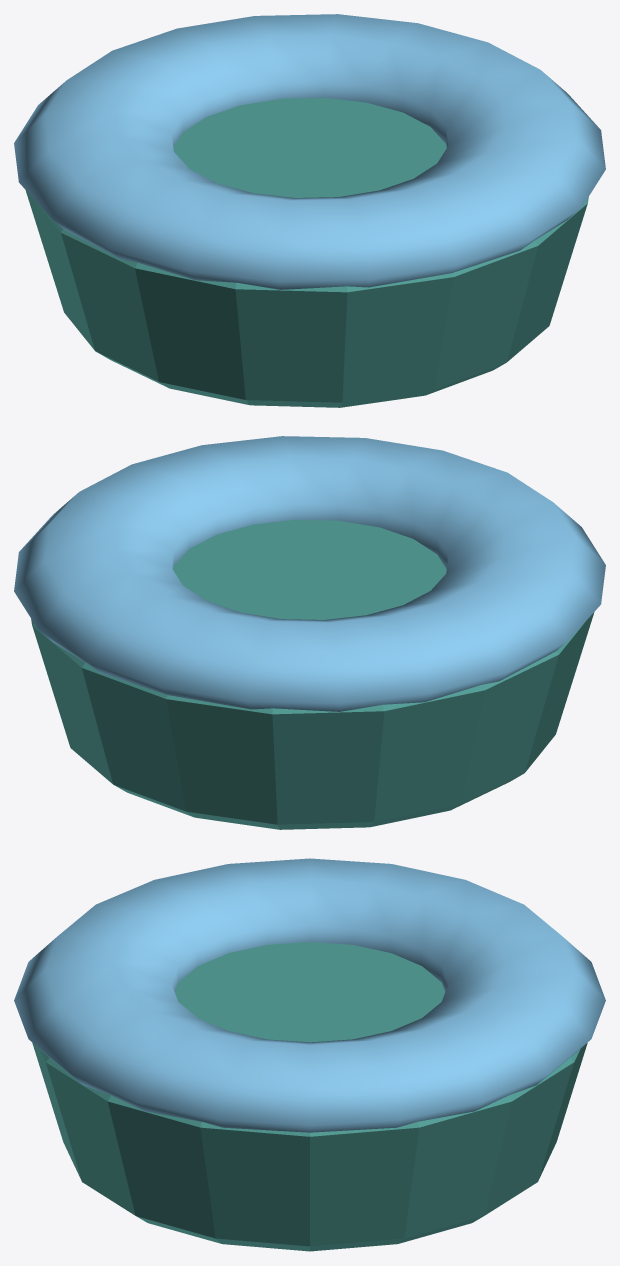
The model's file is dog_bowl.glb.
3 views of the same model, one above another, from view 1: azimuth 30°, elevation 25°; view 2: azimuth 150°, elevation 25°; view 3: azimuth 270°, elevation 25° (orthographic).
Visible parts, largest first — view 1: model; view 2: model; view 3: model.
Part boxes in pixels (x1=…): model: x1=14, y1=14, x2=605, y2=407; model: x1=14, y1=436, x2=605, y2=829; model: x1=14, y1=858, x2=605, y2=1251.
Size of the model in its own units: 0.42 by 0.15 by 0.42.
